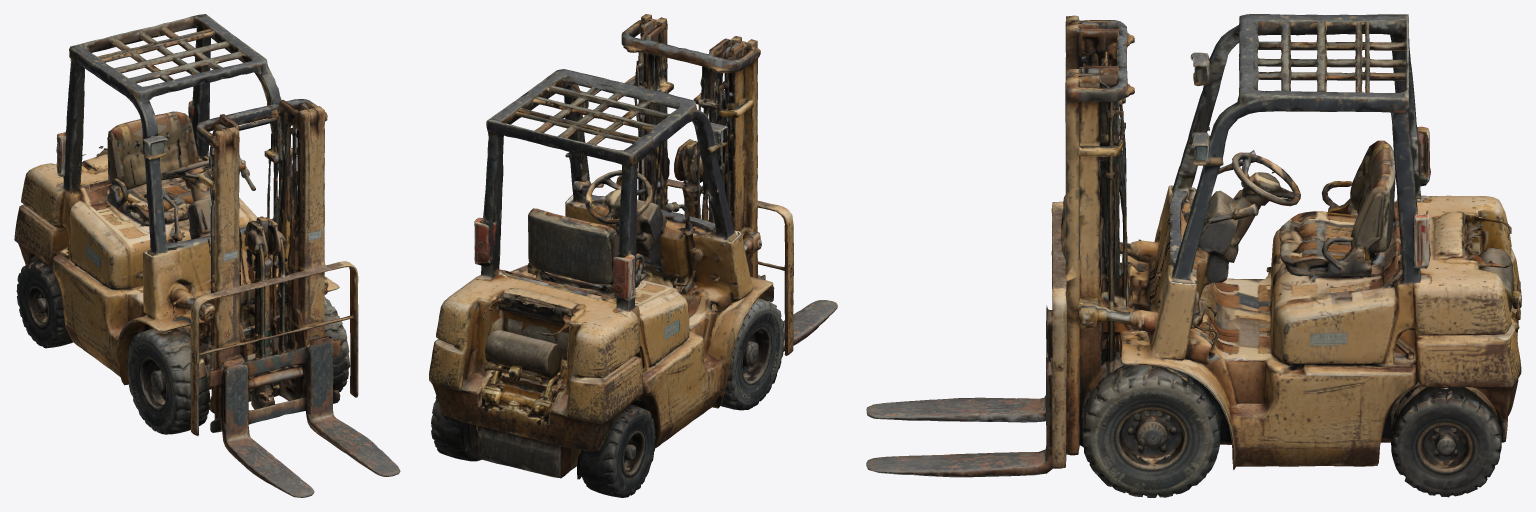
File: Forklift.glb
The picture shows the model from 3 angles, left to right: view 1: azimuth 30°, elevation 25°; view 2: azimuth 150°, elevation 25°; view 3: azimuth 270°, elevation 25°; orthographic projection. The views are drawn at different scales.
Visible parts, largest first — view 1: texture_mapping; view 2: texture_mapping; view 3: texture_mapping.
Boxes of the visible parts, bbox=[...] form: texture_mapping: bbox=[14, 14, 400, 497]; texture_mapping: bbox=[429, 14, 837, 497]; texture_mapping: bbox=[866, 14, 1521, 497].
Size of the model in its own units: 0.4143 by 0.6752 by 1.
Materials: 1 (1 with a texture image).
